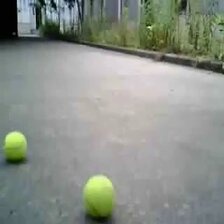tennis: (85, 175, 114, 216), (3, 131, 27, 158)
